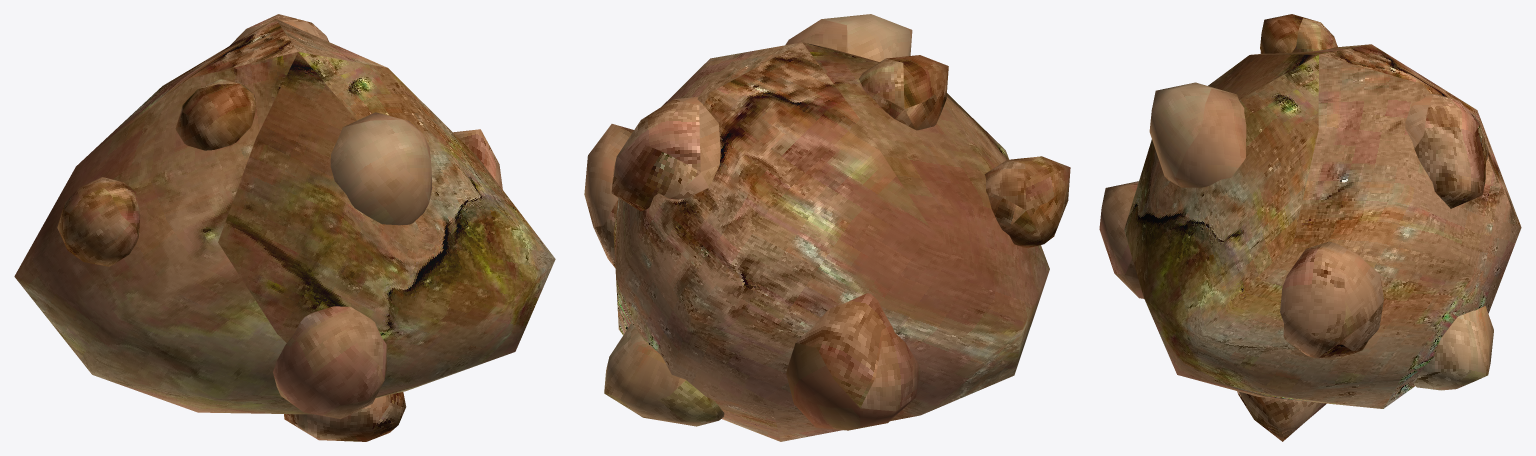
The model's file is HongoFlotante.glb.
3 renders of one model, left to right at view 1: azimuth 30°, elevation 25°; view 2: azimuth 150°, elevation 25°; view 3: azimuth 270°, elevation 25°, orthographic. The views are drawn at different scales.
Visible parts, largest first — view 1: Icosphere, Icosphere.003, Icosphere.004, Icosphere.002, Icosphere.001, Icosphere.007, Icosphere.009, Icosphere.005; view 2: Icosphere, Icosphere.008, Icosphere.005, Icosphere.006, Icosphere.002, Icosphere.001, Icosphere.004, Icosphere.009; view 3: Icosphere, Icosphere.009, Icosphere.004, Icosphere.005, Icosphere.006, Icosphere.003, Icosphere.001, Icosphere.007.
Part boxes in pixels (x1=…): Icosphere: x1=14, y1=18, x2=555, y2=414; Icosphere.003: x1=273, y1=306, x2=386, y2=418; Icosphere.004: x1=330, y1=112, x2=432, y2=225; Icosphere.002: x1=57, y1=177, x2=140, y2=266; Icosphere.001: x1=175, y1=78, x2=255, y2=150; Icosphere.007: x1=284, y1=392, x2=406, y2=441; Icosphere.009: x1=453, y1=129, x2=502, y2=189; Icosphere.005: x1=230, y1=14, x2=328, y2=45; Icosphere: x1=613, y1=42, x2=1049, y2=441; Icosphere.008: x1=786, y1=293, x2=920, y2=430; Icosphere.005: x1=611, y1=96, x2=720, y2=211; Icosphere.006: x1=604, y1=323, x2=724, y2=426; Icosphere.002: x1=984, y1=156, x2=1070, y2=248; Icosphere.001: x1=859, y1=55, x2=948, y2=130; Icosphere.004: x1=785, y1=14, x2=912, y2=61; Icosphere.009: x1=584, y1=124, x2=633, y2=268; Icosphere: x1=1124, y1=44, x2=1521, y2=408; Icosphere.009: x1=1280, y1=241, x2=1383, y2=359; Icosphere.004: x1=1149, y1=82, x2=1246, y2=187; Icosphere.005: x1=1405, y1=94, x2=1488, y2=208; Icosphere.006: x1=1414, y1=306, x2=1493, y2=390; Icosphere.003: x1=1099, y1=181, x2=1144, y2=298; Icosphere.001: x1=1260, y1=14, x2=1337, y2=53; Icosphere.007: x1=1237, y1=391, x2=1326, y2=441.
Bounding box in the file's own units: 0.2627 × 0.2145 × 0.2311.
Materials: 1 (1 with a texture image).
